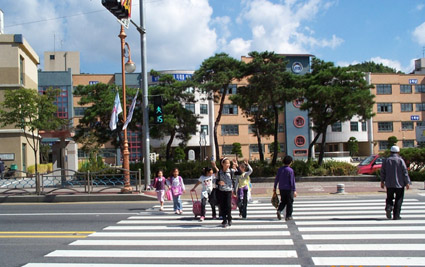traffic_light: (154, 96, 163, 114)
traffic_light_number: (154, 114, 163, 124)
